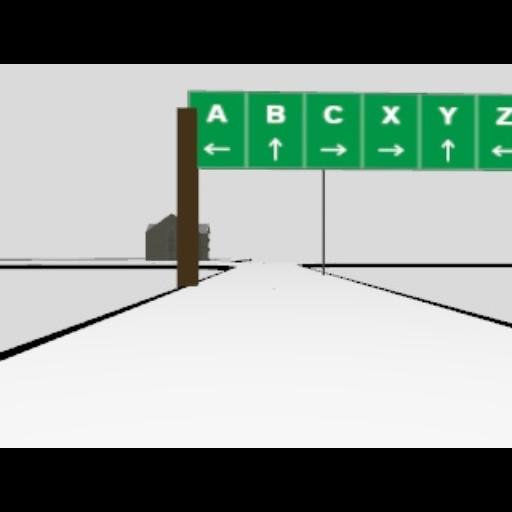A: (205, 102, 227, 124)
B: (266, 104, 284, 124)
C: (324, 104, 342, 124)
Left: (202, 142, 230, 156), (490, 144, 512, 156)
Right: (318, 142, 348, 156), (376, 144, 404, 156)
Straight: (267, 136, 281, 160), (440, 138, 454, 162)
X: (380, 104, 400, 124)
Y: (436, 104, 458, 124)
Z: (494, 106, 512, 126)
